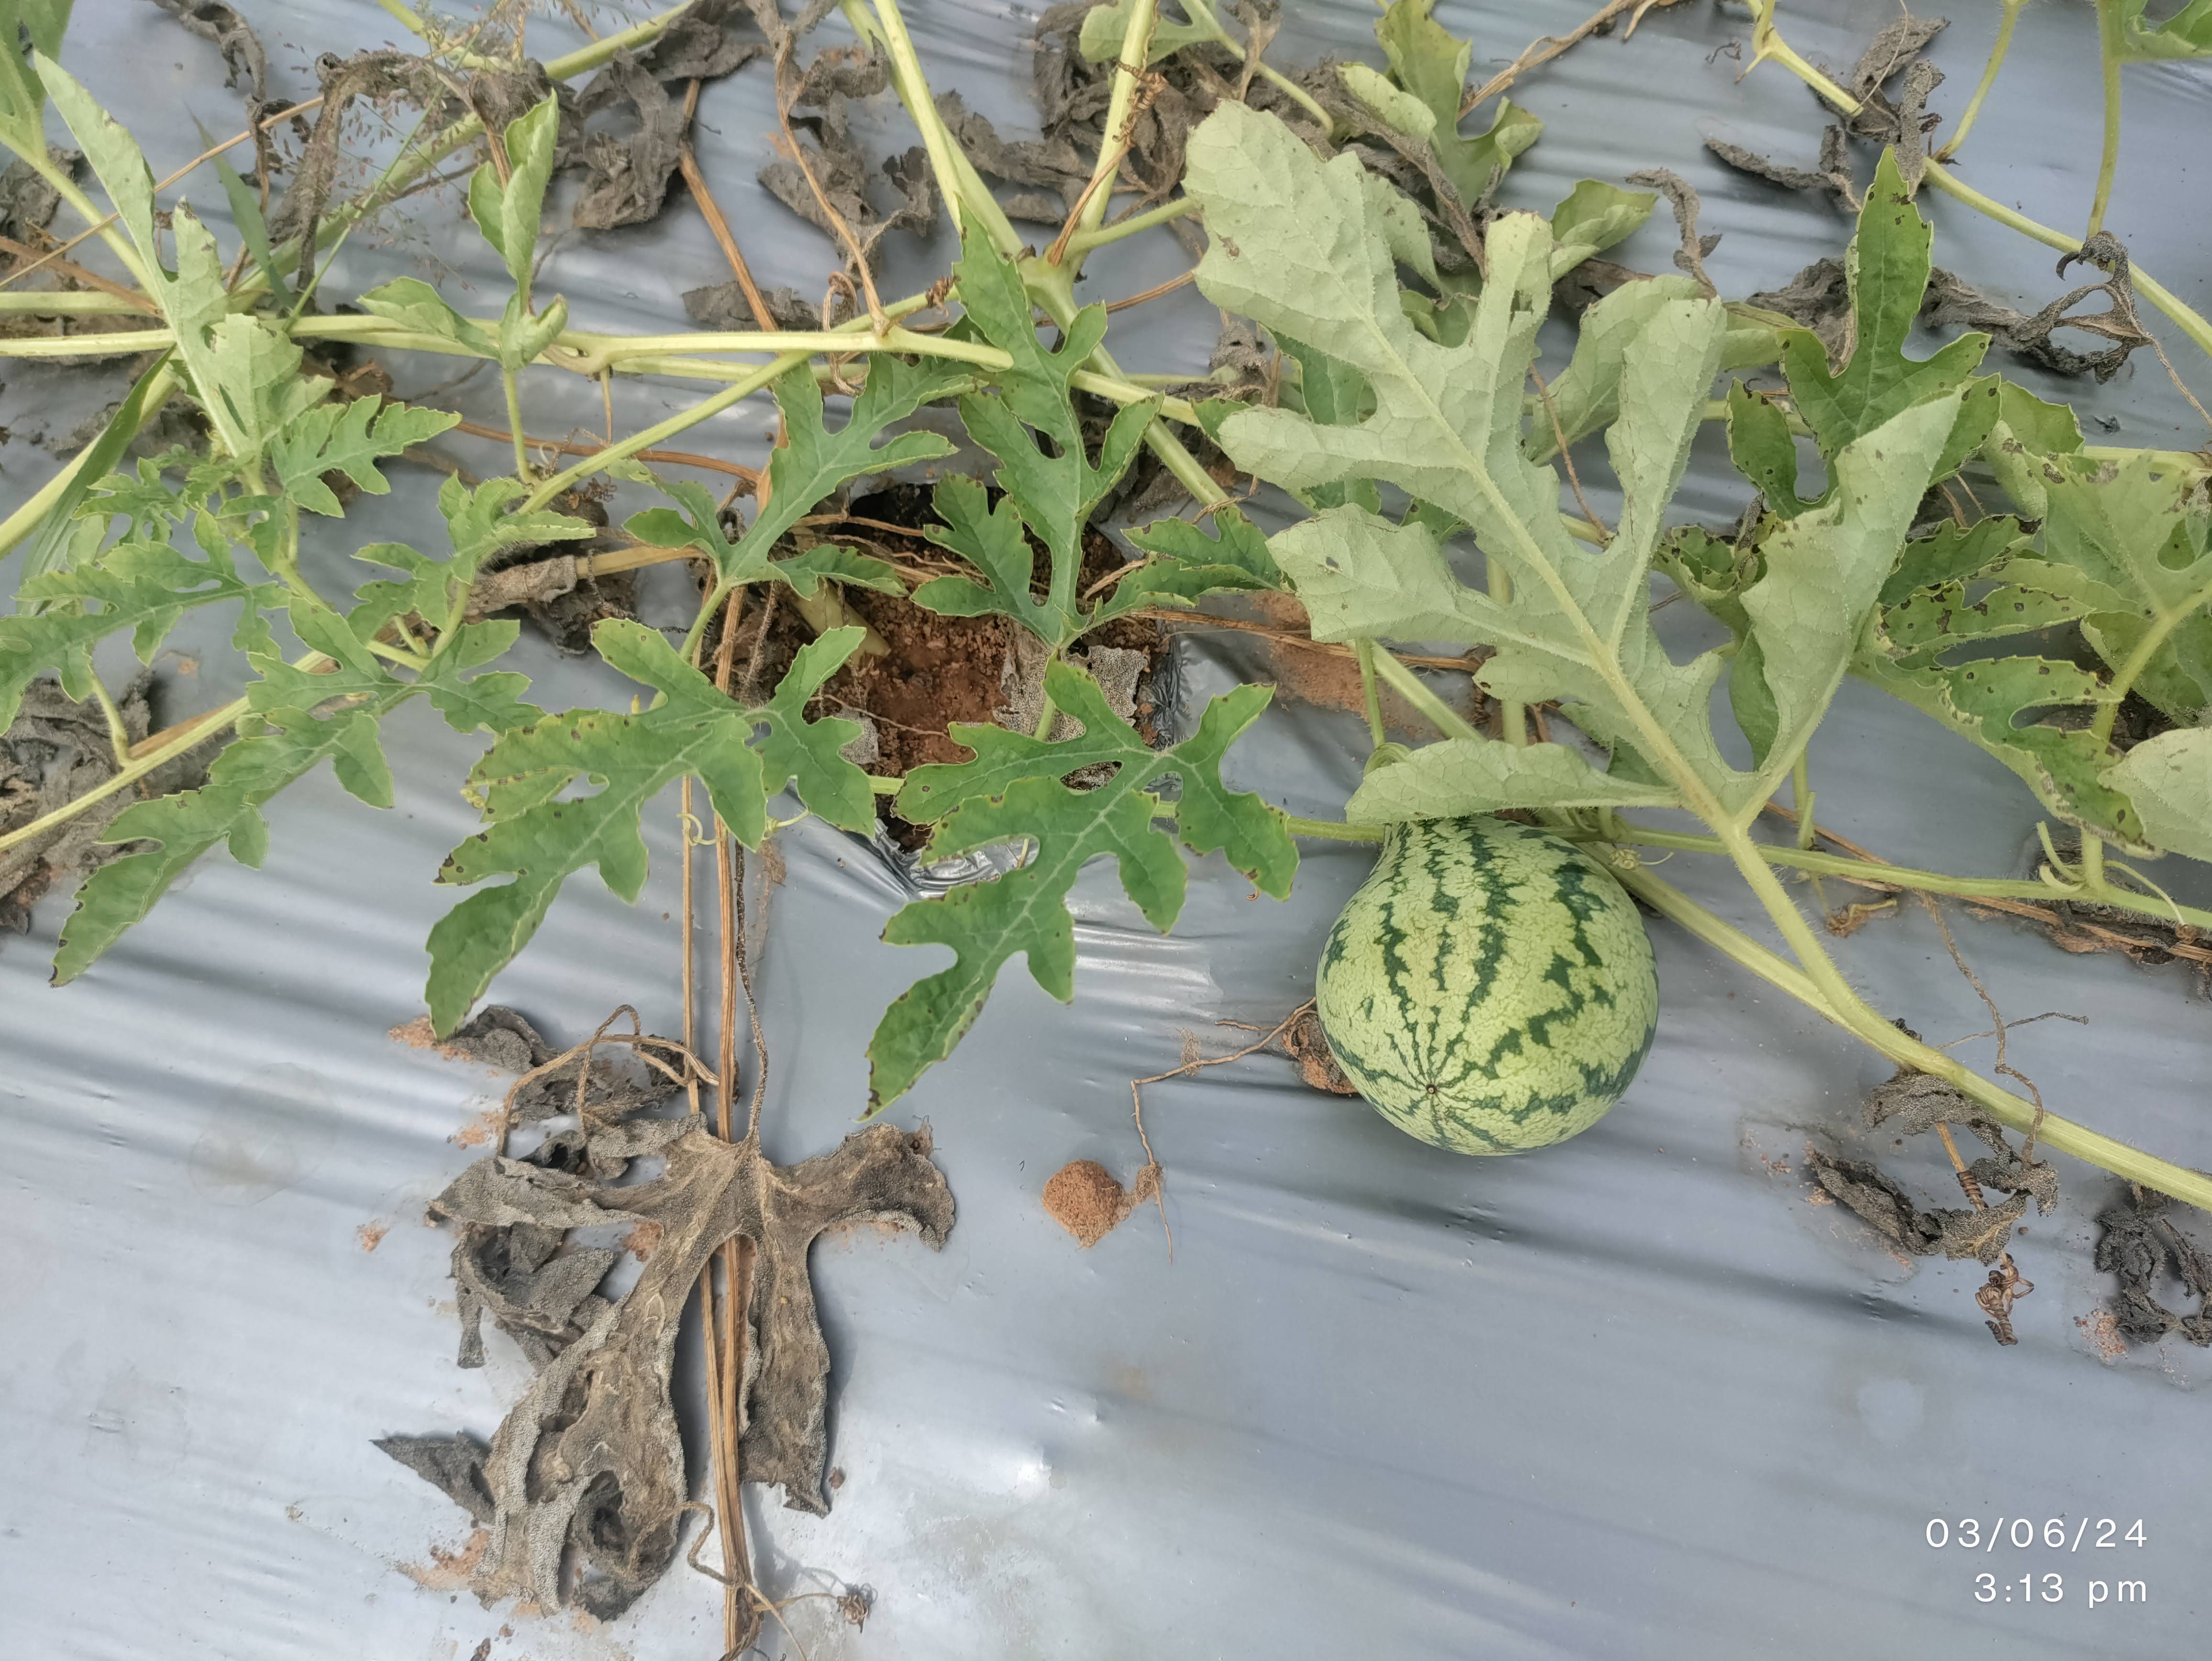good-to-harvest: (1303, 700, 1692, 1169)
